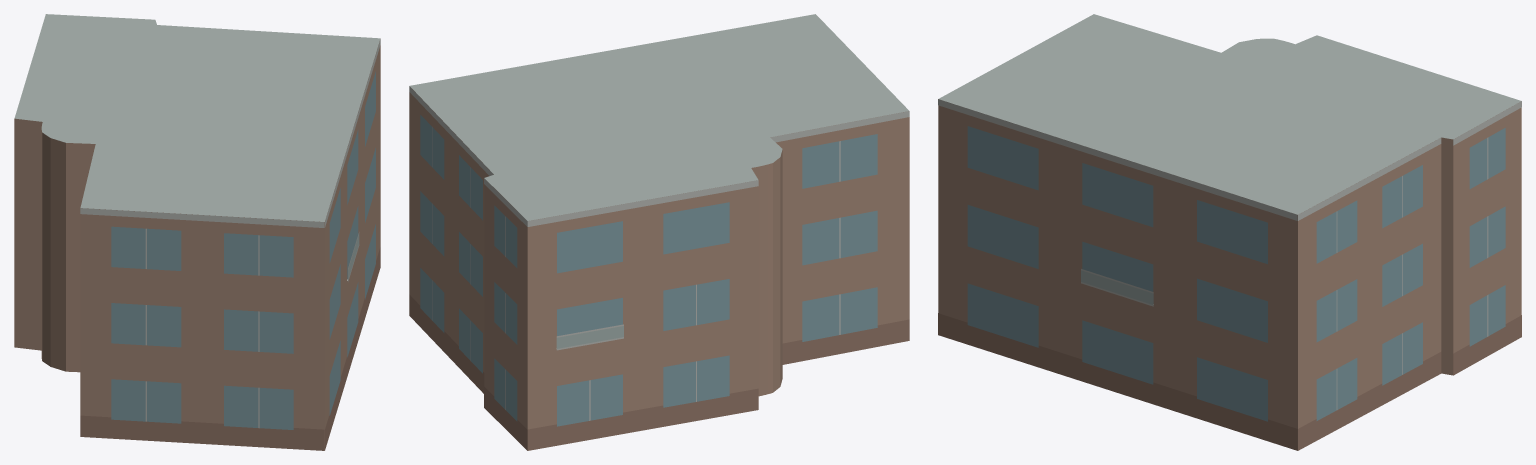
The model's file is survey-upis-32922136.glb.
3 views of the same model, side by side, from view 1: azimuth 30°, elevation 25°; view 2: azimuth 150°, elevation 25°; view 3: azimuth 270°, elevation 25° (orthographic). The views are drawn at different scales.
Visible parts, largest first — view 1: survey-upis-32922136.tmp; view 2: survey-upis-32922136.tmp; view 3: survey-upis-32922136.tmp.
Part boxes in pixels (bbox=[...]): survey-upis-32922136.tmp: bbox=[14, 14, 380, 450]; survey-upis-32922136.tmp: bbox=[409, 14, 909, 450]; survey-upis-32922136.tmp: bbox=[938, 14, 1521, 450].
Bounding box in the file's own units: 16.7 × 9.15 × 20.51.
